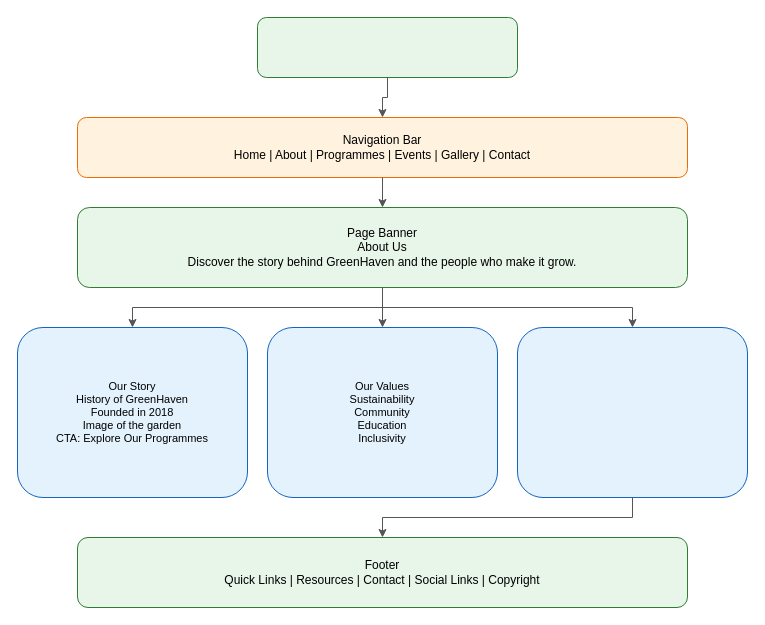
Some shapes in this 765 by 625 pixel diagram are drawn without their labels. The box of each missing label's shape, as (x1, y1, x2, y2) in pixels:
About Page (about.html): (256, 16, 518, 78)
Meet the Team Anna Chen Marcus Obi Emily Frost David Park: (516, 326, 748, 498)
